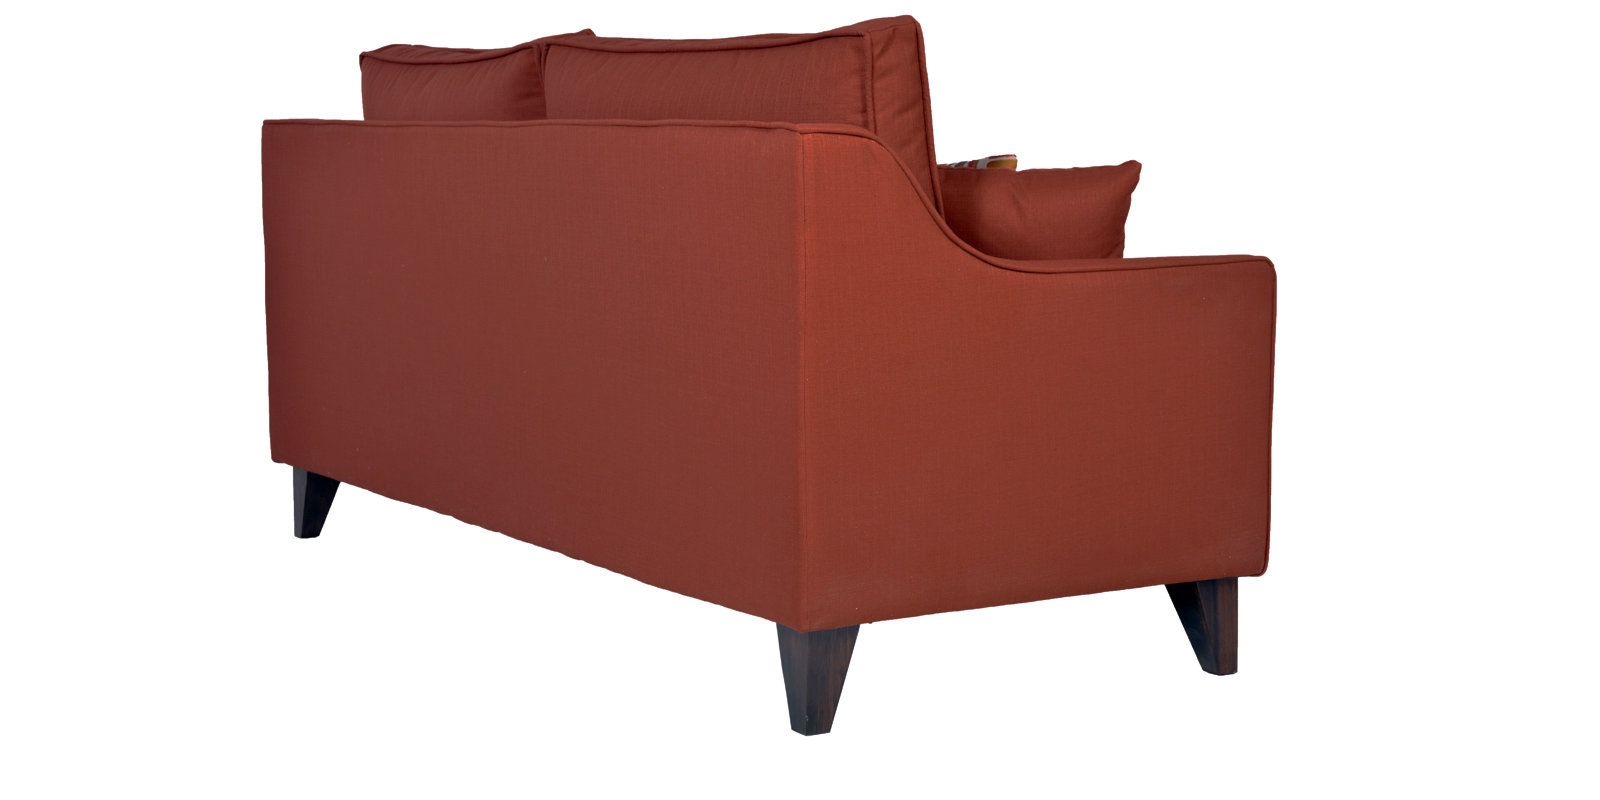Ithaca Impulse Three Seater Sofa with Throw Cushions in Burnt Sienna Colour by U: (226, 8, 1303, 755)
